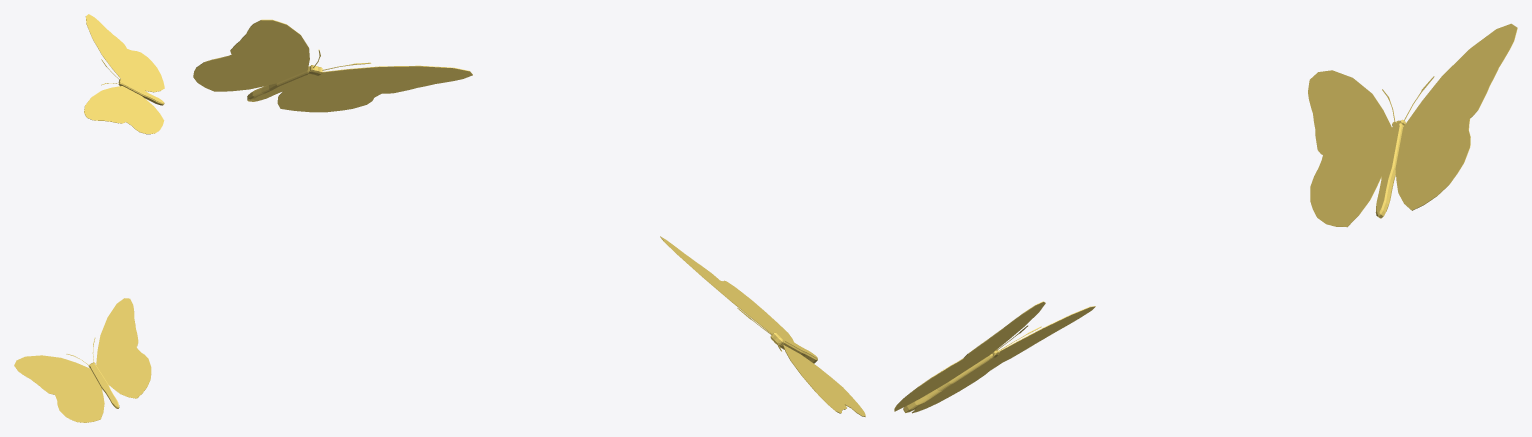
Rendered from butterfly2.glb.
The picture shows the model from 3 angles, left to right: view 1: azimuth 30°, elevation 25°; view 2: azimuth 150°, elevation 25°; view 3: azimuth 270°, elevation 25°; orthographic projection. The views are drawn at different scales.
Parts seen in each view (by area): view 1: Vert, Vert.003; view 2: Vert.003, Vert; view 3: Vert.003, Vert.
Boxes of the visible parts, <box> form: Vert: <box>14,298,151,422</box>; Vert.003: <box>84,14,164,134</box>; Vert.003: <box>193,19,472,112</box>; Vert: <box>660,236,865,416</box>; Vert.003: <box>1308,23,1517,227</box>; Vert: <box>894,301,1095,413</box>.
Size of the model in its own units: 8.98 by 9.71 by 10.4.
